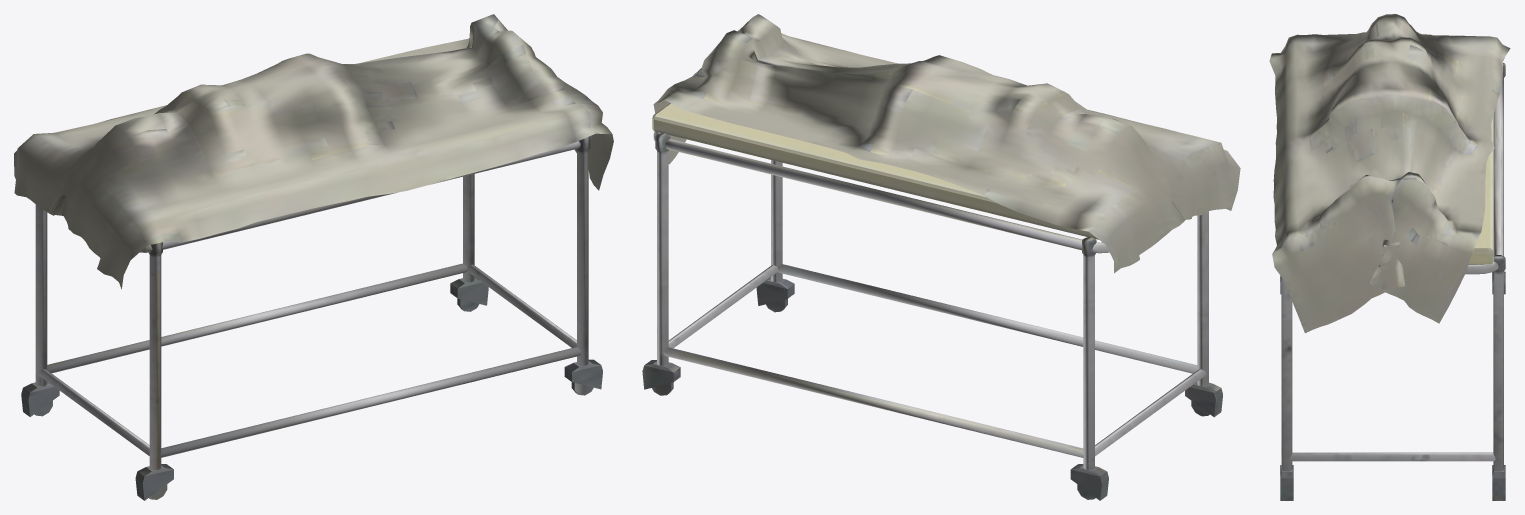
The model's file is stretcher.glb.
The picture shows the model from 3 angles, left to right: view 1: azimuth 30°, elevation 25°; view 2: azimuth 150°, elevation 25°; view 3: azimuth 270°, elevation 25°; orthographic projection. The views are drawn at different scales.
Visible parts, largest first — view 1: prop; view 2: prop; view 3: prop.
Part boxes in pixels (left/top/right/bottom): prop: left=14, top=14, right=613, bottom=500; prop: left=642, top=14, right=1240, bottom=500; prop: left=1269, top=14, right=1510, bottom=500.
Size of the model in its own units: 1.49 by 0.95 by 0.6614.
1 material, 1 textured.
